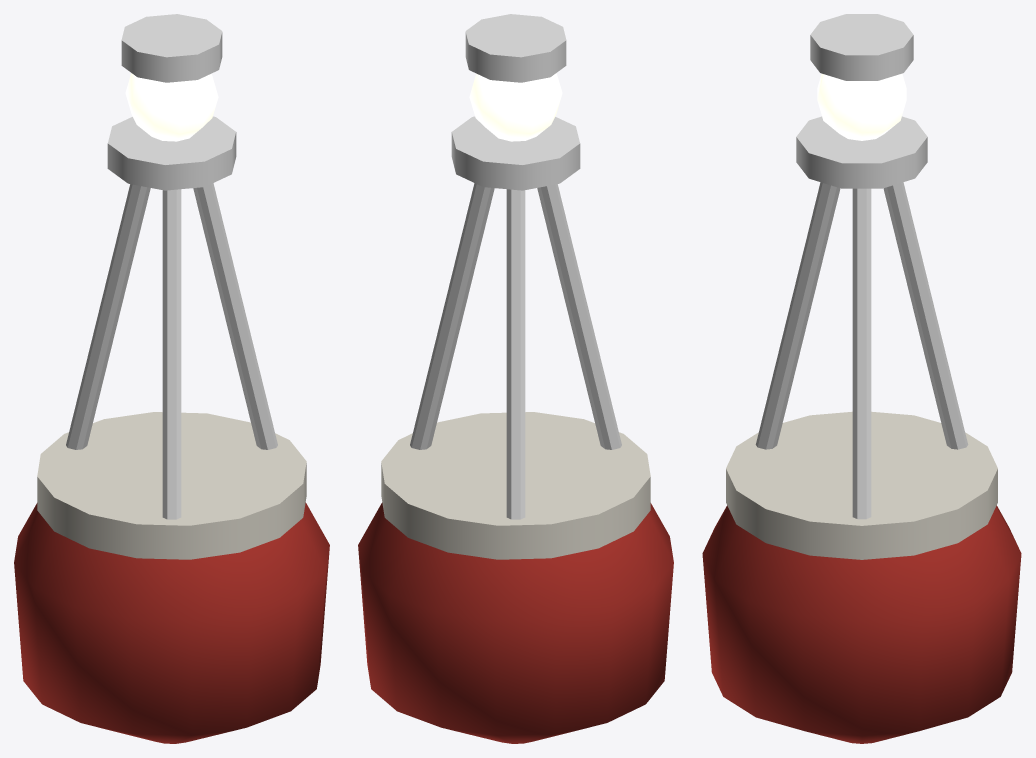
The model's file is Buoy.fbx.
The picture shows the model from 3 angles, left to right: view 1: azimuth 30°, elevation 25°; view 2: azimuth 150°, elevation 25°; view 3: azimuth 270°, elevation 25°; orthographic projection.
Parts seen in each view (by area): view 1: Buoy__paint_red, Buoy__iron, Buoy__paint_white, Buoy__glow_lantern; view 2: Buoy__paint_red, Buoy__iron, Buoy__paint_white, Buoy__glow_lantern; view 3: Buoy__paint_red, Buoy__iron, Buoy__paint_white, Buoy__glow_lantern.
Part boxes in pixels (<box>): Buoy__paint_red: <box>14,502,329,743</box>; Buoy__iron: <box>66,14,277,519</box>; Buoy__paint_white: <box>37,412,306,559</box>; Buoy__glow_lantern: <box>125,73,218,141</box>; Buoy__paint_red: <box>358,502,673,743</box>; Buoy__iron: <box>410,14,621,519</box>; Buoy__paint_white: <box>381,412,650,559</box>; Buoy__glow_lantern: <box>469,73,562,141</box>; Buoy__paint_red: <box>702,505,1021,743</box>; Buoy__iron: <box>755,14,968,519</box>; Buoy__paint_white: <box>726,411,997,559</box>; Buoy__glow_lantern: <box>817,73,906,140</box>.
Bounding box in the file's own units: 3.4 × 8.2 × 3.4.
